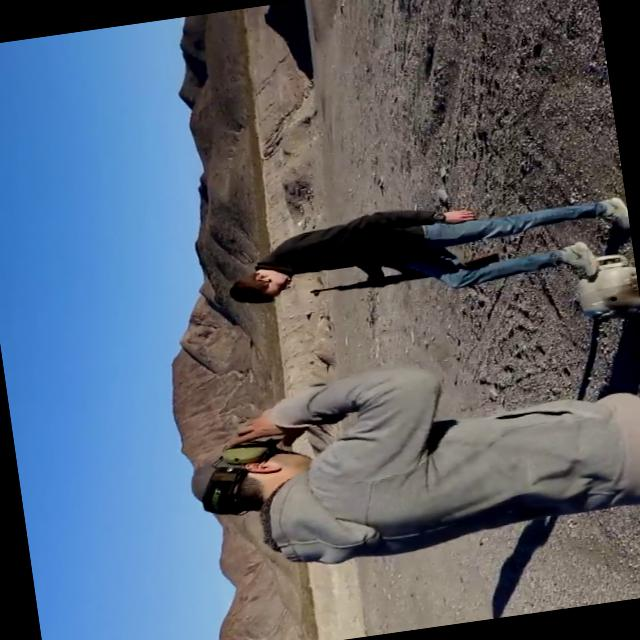long weapon: (291, 243, 506, 308)
